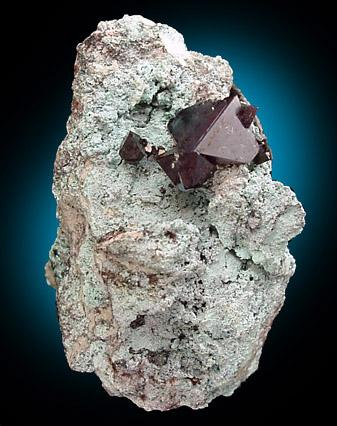cuprite: (119, 92, 272, 190)
